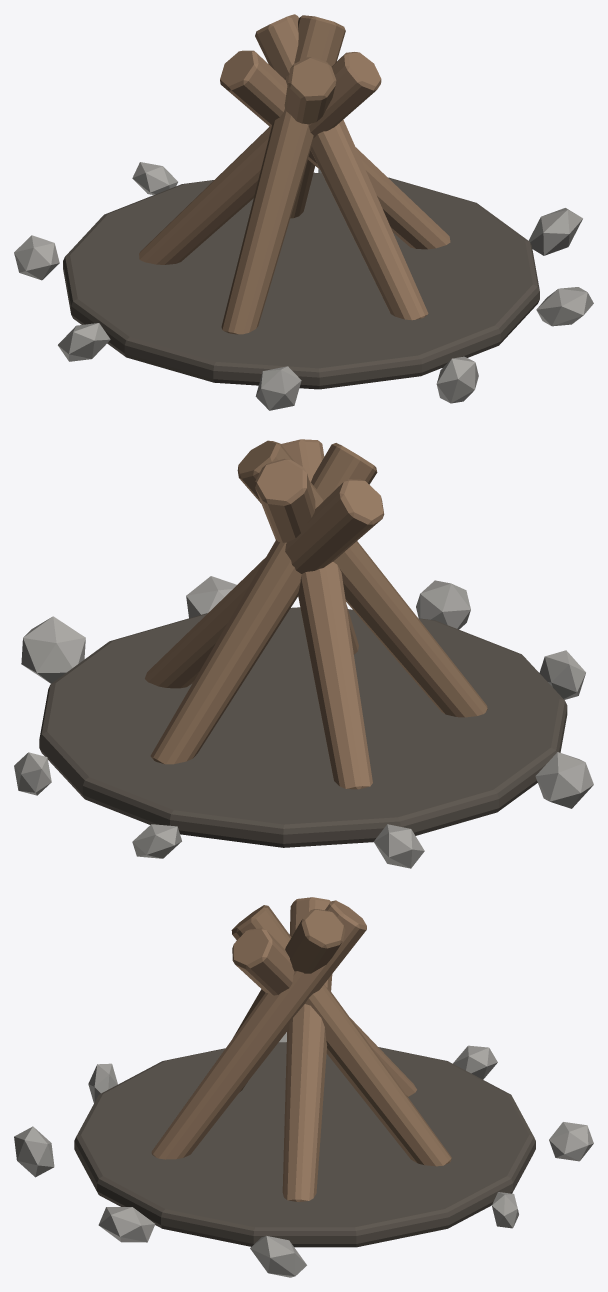
File: campfire.glb
3 renders of one model, top to bottom at view 1: azimuth 30°, elevation 25°; view 2: azimuth 150°, elevation 25°; view 3: azimuth 270°, elevation 25°, orthographic. The views are drawn at different scales.
Visible parts, largest first — view 1: Cylinder, Cylinder.004, Cylinder.005, Cylinder.003, Cylinder.001, Cylinder.002, Icosphere, Icosphere.007, Icosphere.005, Icosphere.006, Icosphere.003, Icosphere.004 (+1 smaller); view 2: Cylinder, Cylinder.002, Cylinder.003, Cylinder.004, Cylinder.001, Cylinder.005, Icosphere, Icosphere.004, Icosphere.006, Icosphere.003, Icosphere.005, Icosphere.002 (+2 smaller); view 3: Cylinder, Cylinder.005, Cylinder.002, Cylinder.001, Cylinder.003, Cylinder.004, Icosphere, Icosphere.007, Icosphere.006, Icosphere.002, Icosphere.003, Icosphere.001 (+1 smaller).
Part boxes in pixels (left/top/right/bottom): Cylinder: left=63, top=172, right=539, bottom=389; Cylinder.004: left=221, top=15, right=345, bottom=334; Cylinder.005: left=255, top=14, right=428, bottom=320; Cylinder.003: left=139, top=52, right=381, bottom=264; Cylinder.001: left=220, top=50, right=450, bottom=249; Cylinder.002: left=284, top=57, right=336, bottom=218; Icosphere: left=528, top=208, right=582, bottom=255; Icosphere.007: left=536, top=287, right=593, bottom=326; Icosphere.005: left=255, top=366, right=301, bottom=410; Icosphere.006: left=436, top=356, right=478, bottom=403; Icosphere.003: left=14, top=235, right=59, bottom=280; Icosphere.004: left=58, top=323, right=110, bottom=361; Cylinder: left=39, top=607, right=567, bottom=847; Cylinder.002: left=150, top=443, right=377, bottom=764; Cylinder.003: left=281, top=439, right=372, bottom=789; Cylinder.004: left=237, top=440, right=487, bottom=717; Cylinder.001: left=145, top=479, right=384, bottom=688; Cylinder.005: left=255, top=458, right=358, bottom=654; Icosphere: left=21, top=616, right=85, bottom=683; Icosphere.004: left=535, top=752, right=593, bottom=808; Icosphere.006: left=416, top=580, right=470, bottom=629; Icosphere.003: left=373, top=824, right=424, bottom=868; Icosphere.005: left=539, top=650, right=585, bottom=699; Icosphere.002: left=132, top=824, right=181, bottom=858; Cylinder: left=74, top=1042, right=535, bottom=1247; Cylinder.005: left=151, top=900, right=366, bottom=1159; Cylinder.002: left=231, top=905, right=451, bottom=1166; Cylinder.001: left=282, top=897, right=332, bottom=1201; Cylinder.003: left=232, top=928, right=416, bottom=1096; Cylinder.004: left=233, top=909, right=345, bottom=1092; Icosphere: left=250, top=1236, right=306, bottom=1277; Icosphere.007: left=98, top=1207, right=155, bottom=1242; Icosphere.006: left=14, top=1126, right=54, bottom=1177; Icosphere.002: left=549, top=1122, right=593, bottom=1161; Icosphere.003: left=453, top=1045, right=497, bottom=1079; Icosphere.001: left=492, top=1192, right=518, bottom=1228.
Size of the model in its own units: 1.03 by 0.5387 by 1.05.
